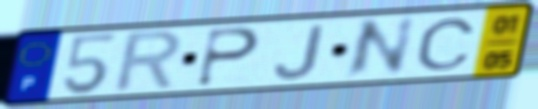5: (60, 30, 121, 98)
C: (413, 16, 479, 73)
J: (271, 23, 328, 83)
N: (340, 14, 419, 82)
P: (193, 26, 264, 89)
R: (109, 28, 187, 96)
